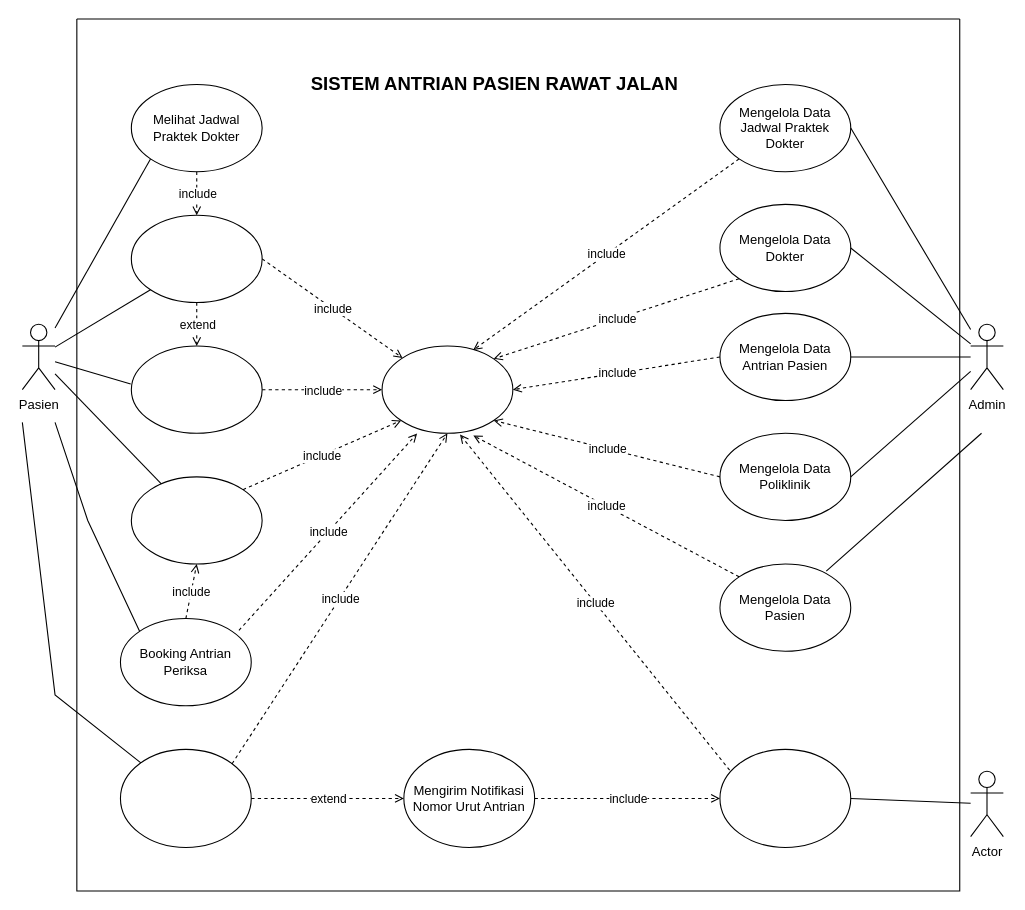
Image size: 1025x910. Some labels were removed from this diagram. Here are the shapes that lost their labels. From the top down, the centre of each, then its label:
At [196,258]: "Melihat Dokter".
At [196,389]: "Melihat Poliklinik".
At [447,389]: "Login".
At [196,520]: "Meilhat Antrian Periksa".
At [185,797]: "Lihat Notifikasi Nomor Urut Antrian".
At [785,797]: "Input Hasil Periksa".
